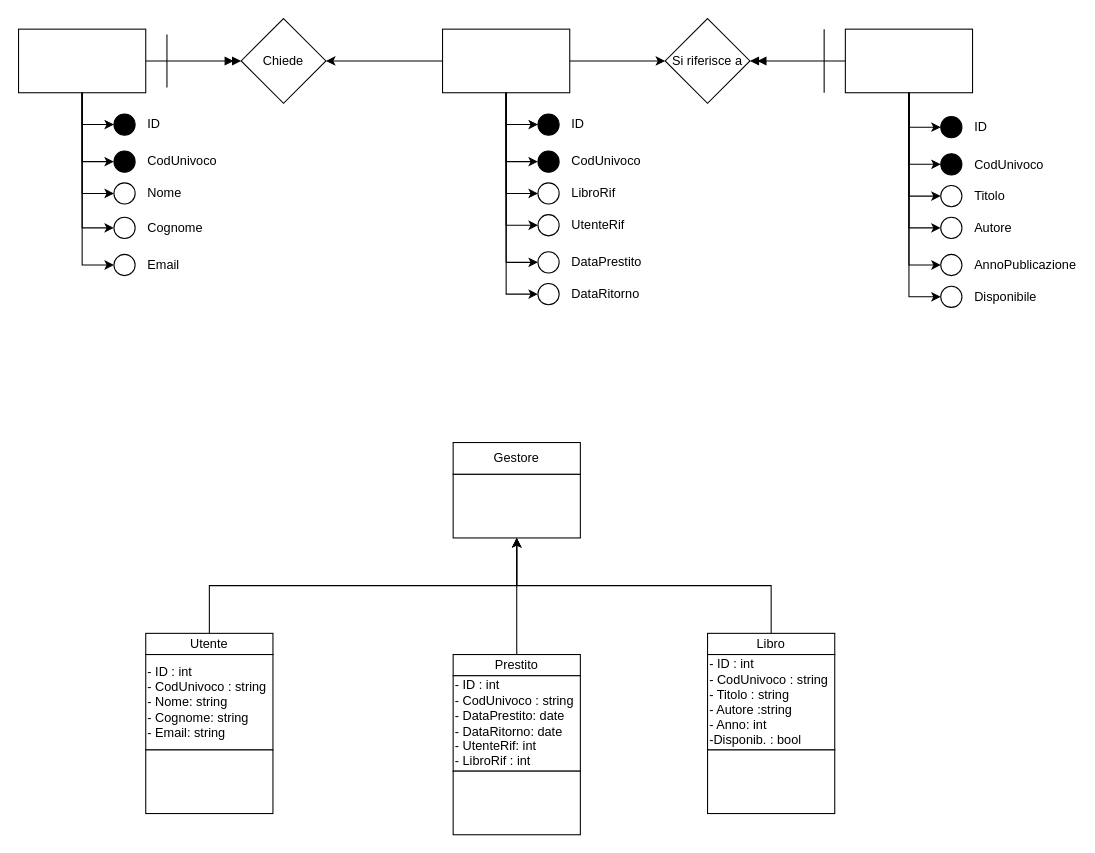
Image size: 1095x853. Some labels were removed from this diagram. The shapes that lost their labels are listed below. From the top down, each one's centre as x and y in pixels, then its label:
point (81, 60): Utenti
point (505, 60): Prestiti
point (908, 60): Libri
point (516, 505): + CRUD Utenti + CRUD Libri + CRUD Prestito + Stampa
